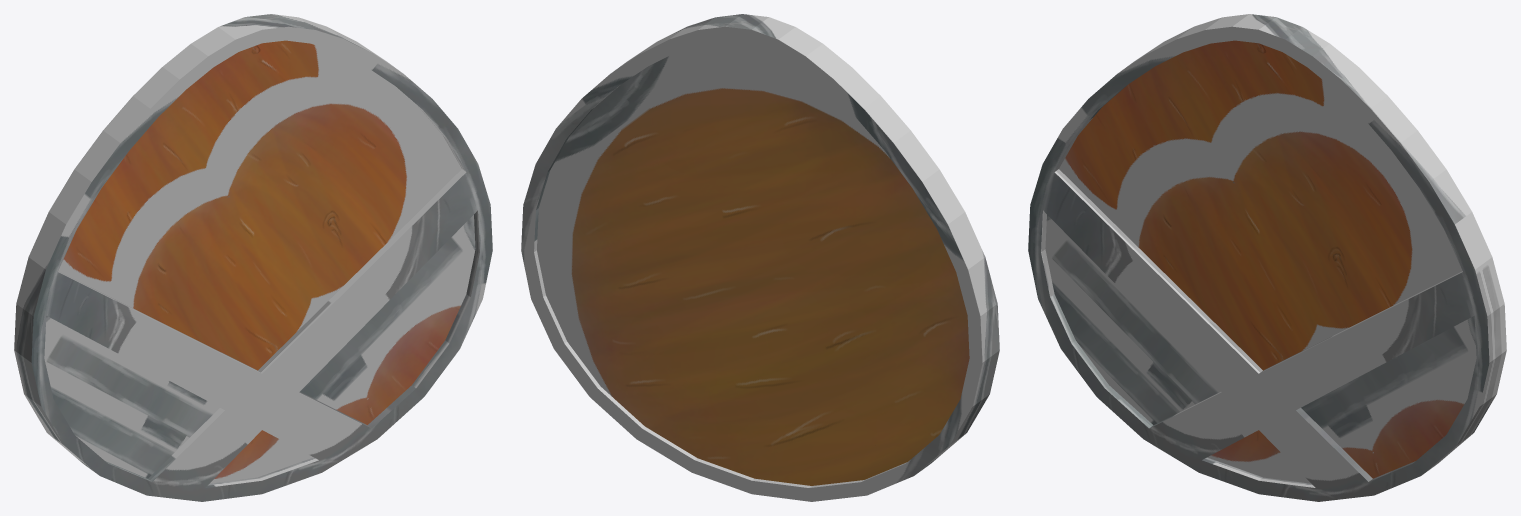
Rendered from shield3.fbx.
The picture shows the model from 3 angles, left to right: view 1: azimuth 30°, elevation 25°; view 2: azimuth 150°, elevation 25°; view 3: azimuth 330°, elevation 25°; orthographic projection.
Parts seen in each view (by area): view 1: Cylinder; view 2: Cylinder; view 3: Cylinder.
Boxes of the visible parts, x1,y1,x2,y2 form: Cylinder: [14, 14, 492, 501]; Cylinder: [521, 14, 999, 501]; Cylinder: [1028, 14, 1506, 501].
Bounding box in the file's own units: 73.22 × 70.43 × 4.77.
